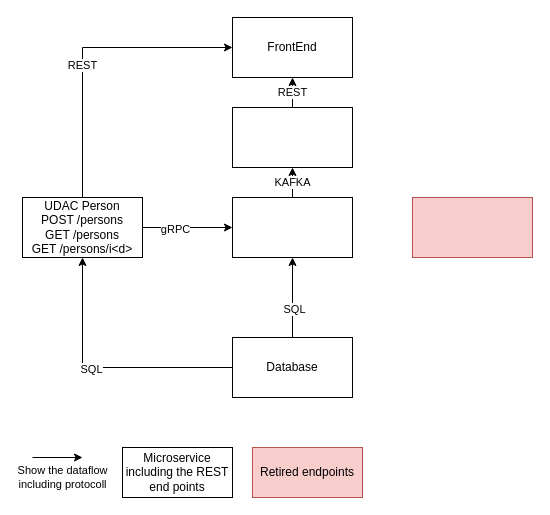
This 550x515 diagram has some shape labels left out. The shapes that lost their labels are listed below. From the top down, each one's centre as x and y in pixels, then its label:
At (x=292, y=137): "UDAC Connection EP GET /persons/<id> /connections".
At (x=292, y=227): "UDAC Connection Calculator".
At (x=472, y=227): "POST /locations GET /locations/<id>".
